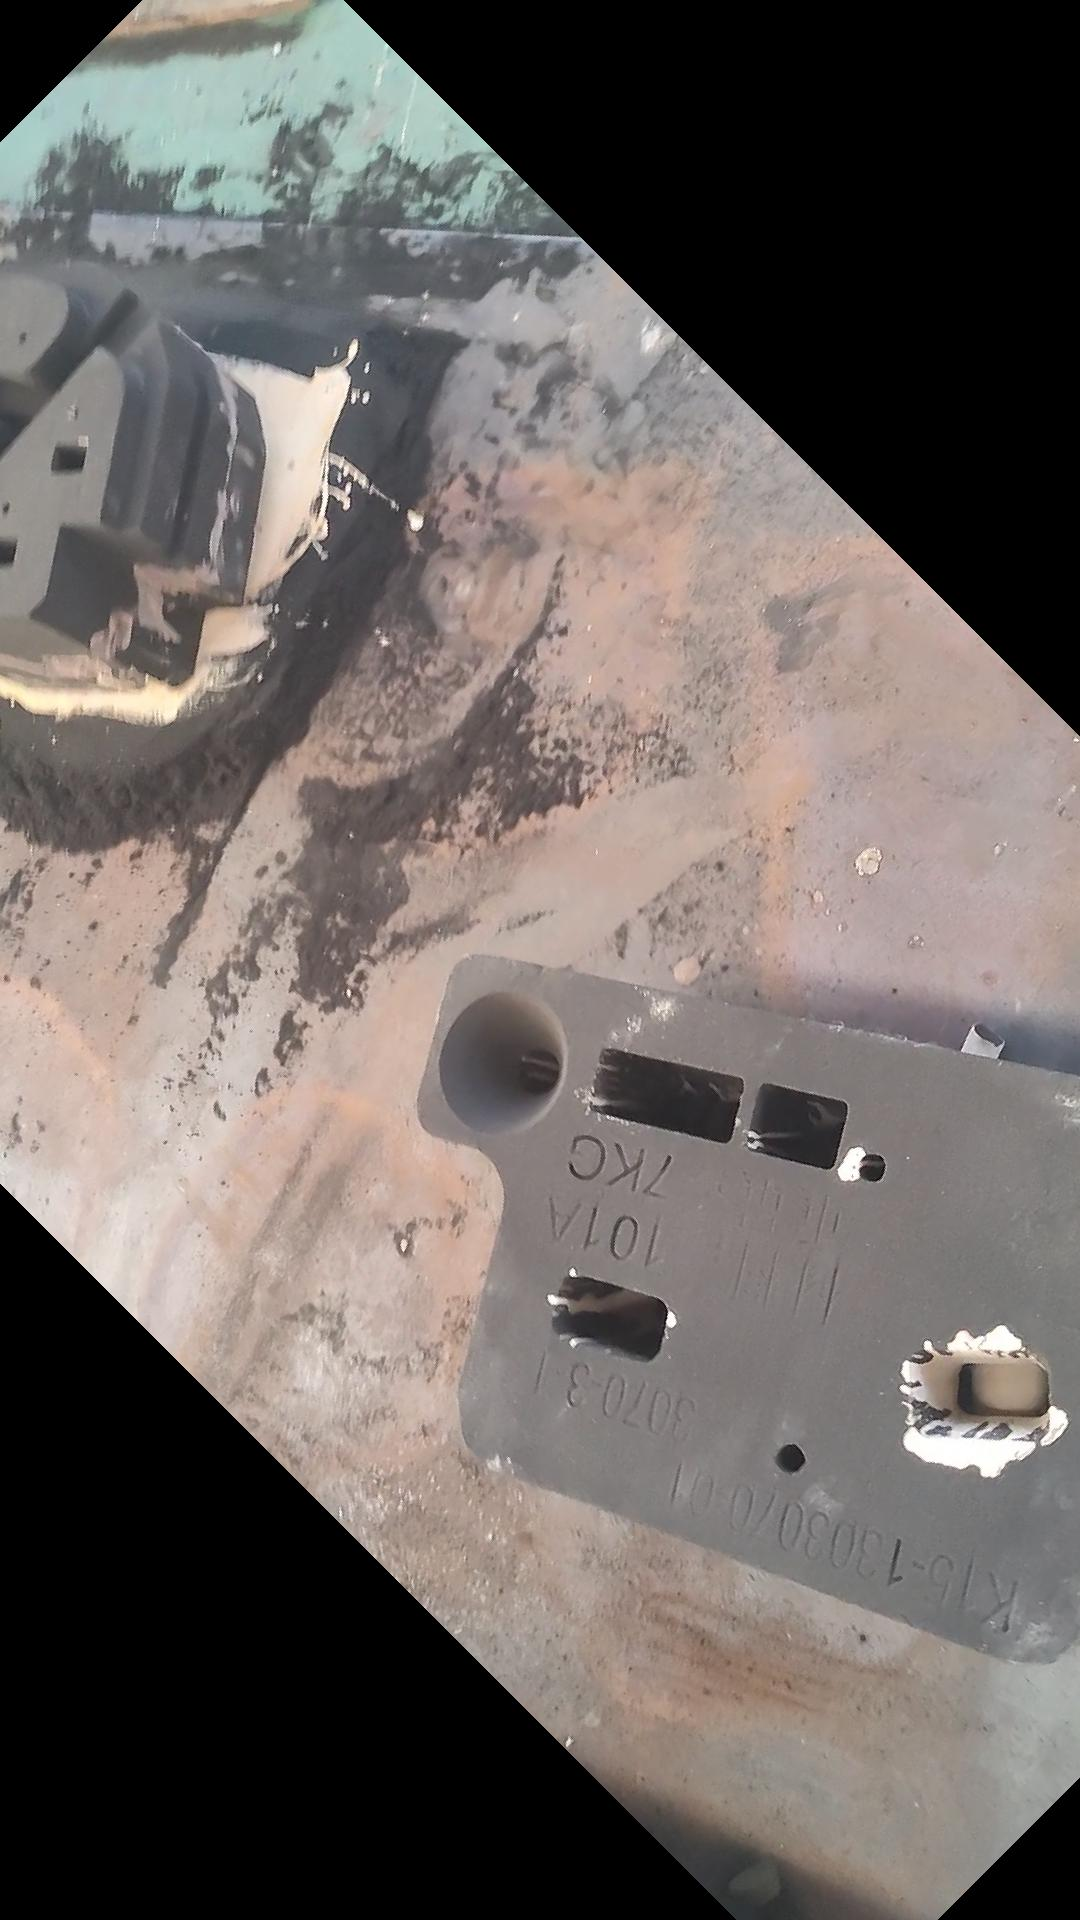pouring hole: (439, 993, 566, 1134)
